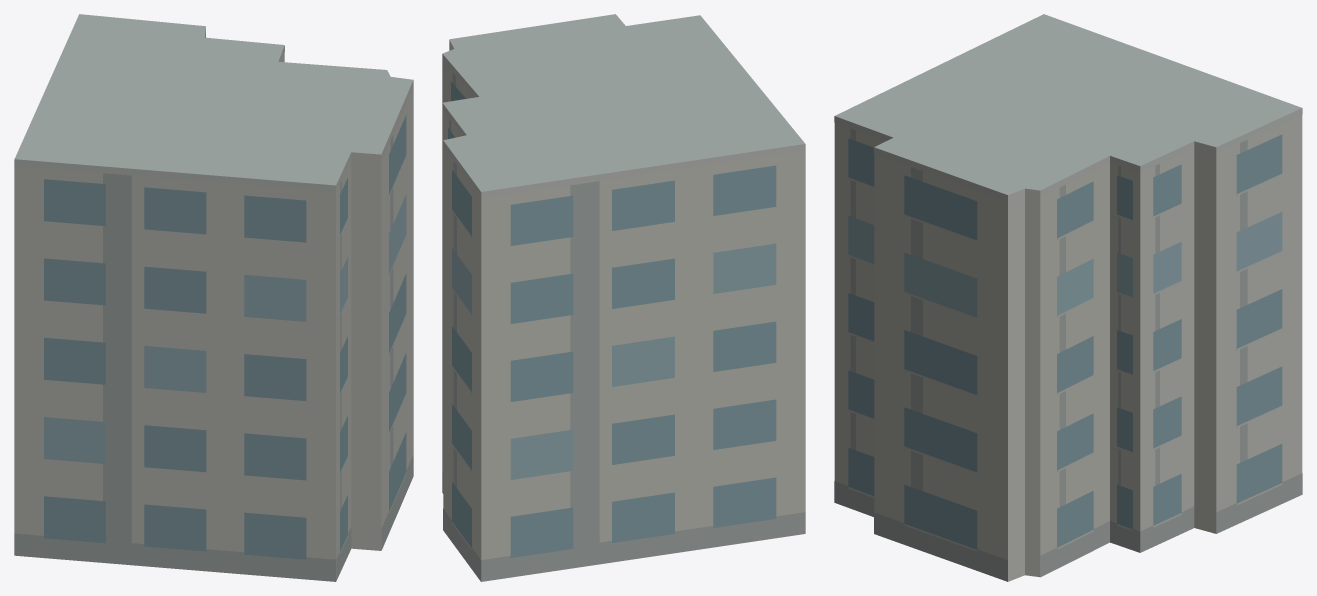
The model's file is survey-upis-32892093.glb.
3 renders of one model, left to right at view 1: azimuth 30°, elevation 25°; view 2: azimuth 150°, elevation 25°; view 3: azimuth 270°, elevation 25°, orthographic. The views are drawn at different scales.
Visible parts, largest first — view 1: survey-upis-32892093.tmp; view 2: survey-upis-32892093.tmp; view 3: survey-upis-32892093.tmp.
Boxes of the visible parts, x1=… form: survey-upis-32892093.tmp: x1=14, y1=14, x2=413, y2=581; survey-upis-32892093.tmp: x1=442, y1=14, x2=805, y2=581; survey-upis-32892093.tmp: x1=834, y1=14, x2=1302, y2=581.
Bounding box in the file's own units: 14.18 × 14.1 × 15.47.
